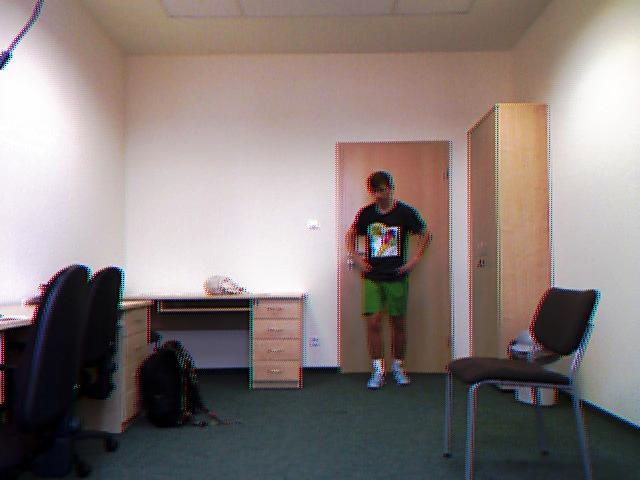standing: (341, 163, 440, 395)
